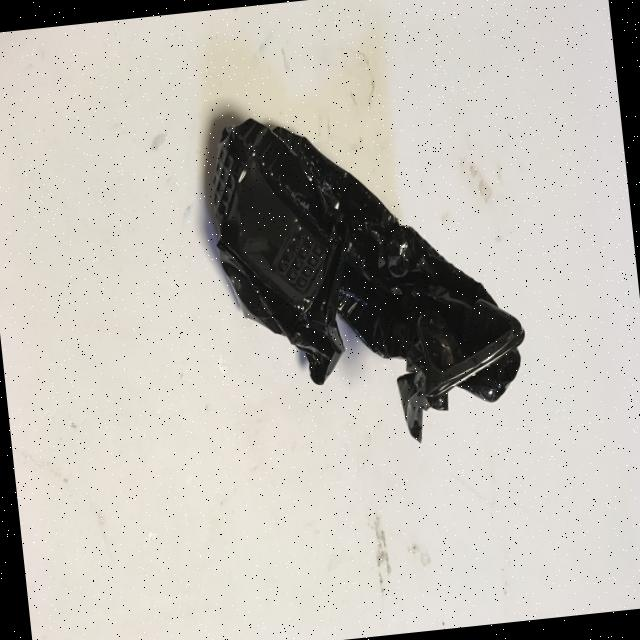plastic: (202, 90, 534, 462)
